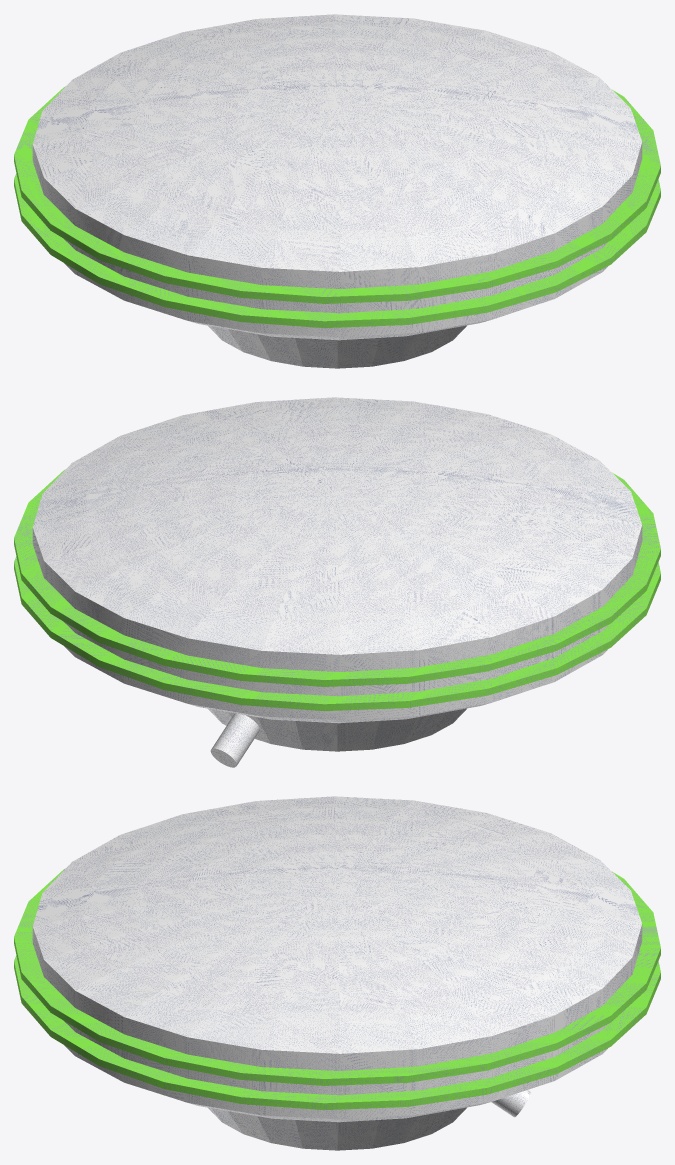
3 renders of one model, top to bottom at view 1: azimuth 30°, elevation 25°; view 2: azimuth 150°, elevation 25°; view 3: azimuth 270°, elevation 25°, orthographic.
Parts seen in each view (by area): view 1: Antenna (×4); view 2: Antenna (×5); view 3: Antenna (×5).
Part boxes in pixels (x1,y1,x2,y2): Antenna (×4): [14, 14, 660, 368]; Antenna (×5): [14, 397, 660, 767]; Antenna (×5): [14, 796, 660, 1150].
Bounding box in the file's own units: 6.69 × 6.69 × 2.52.
